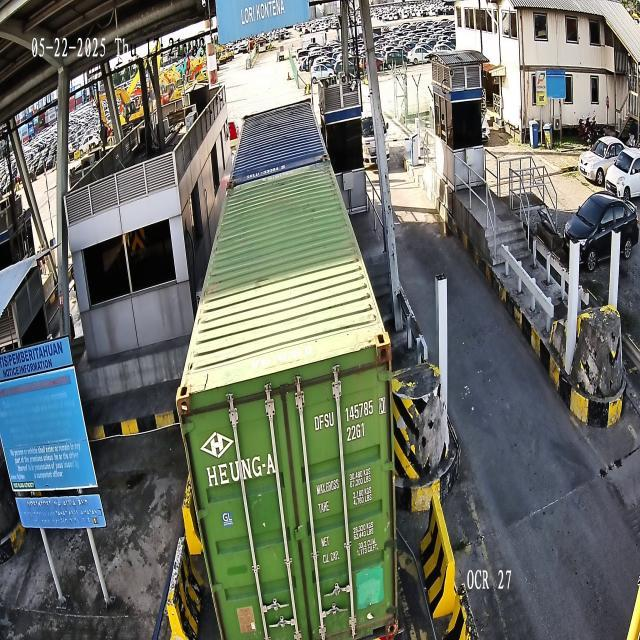ISO: (346, 422, 367, 444)
container_number: (314, 394, 387, 434)
